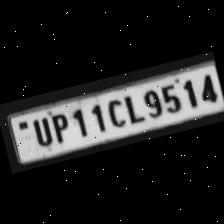1: (66, 104, 92, 140), (176, 74, 200, 110), (85, 100, 108, 134)
4: (192, 70, 220, 106)
5: (155, 79, 183, 116)
9: (136, 85, 164, 120)
C: (100, 95, 127, 130)
L: (119, 90, 144, 124)
P: (46, 108, 72, 146)
U: (26, 113, 54, 149)
